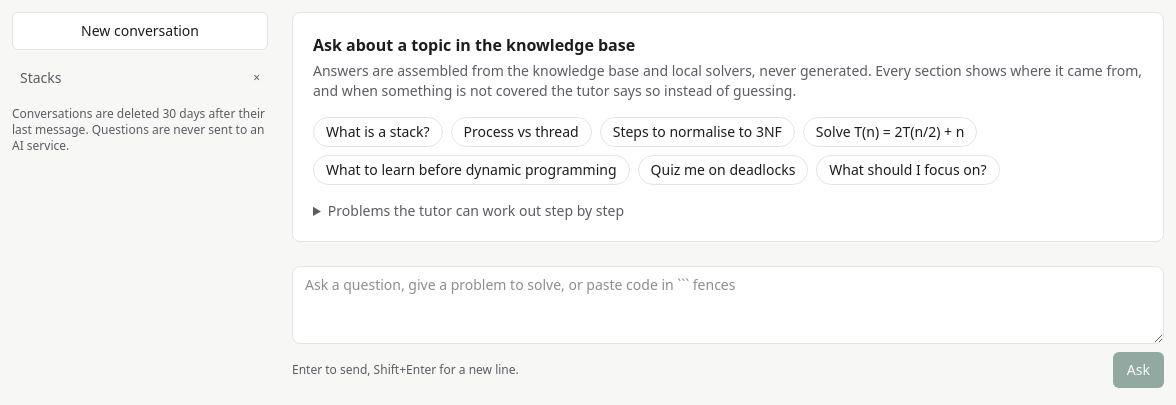
Test: TutorWorkspace › deletes a conversation after confirmation
What coordinates should you click on to do the following:
click the button named "Delete conversation: Stacks"
I would click on:
 (257, 78)
Its box is x1=245 y1=66 x2=268 y2=90.
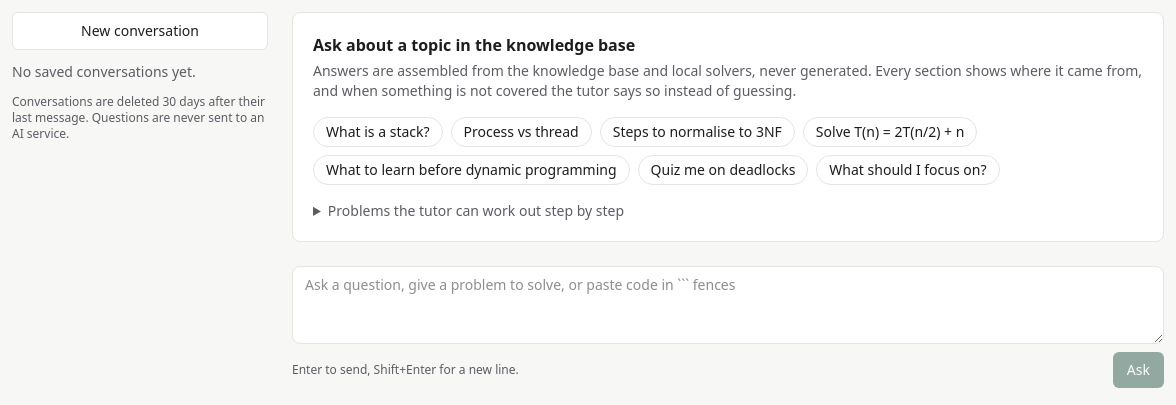
Now the text "No saved conversations yet." is shown, box x1=12 y1=62 x2=196 y2=81
